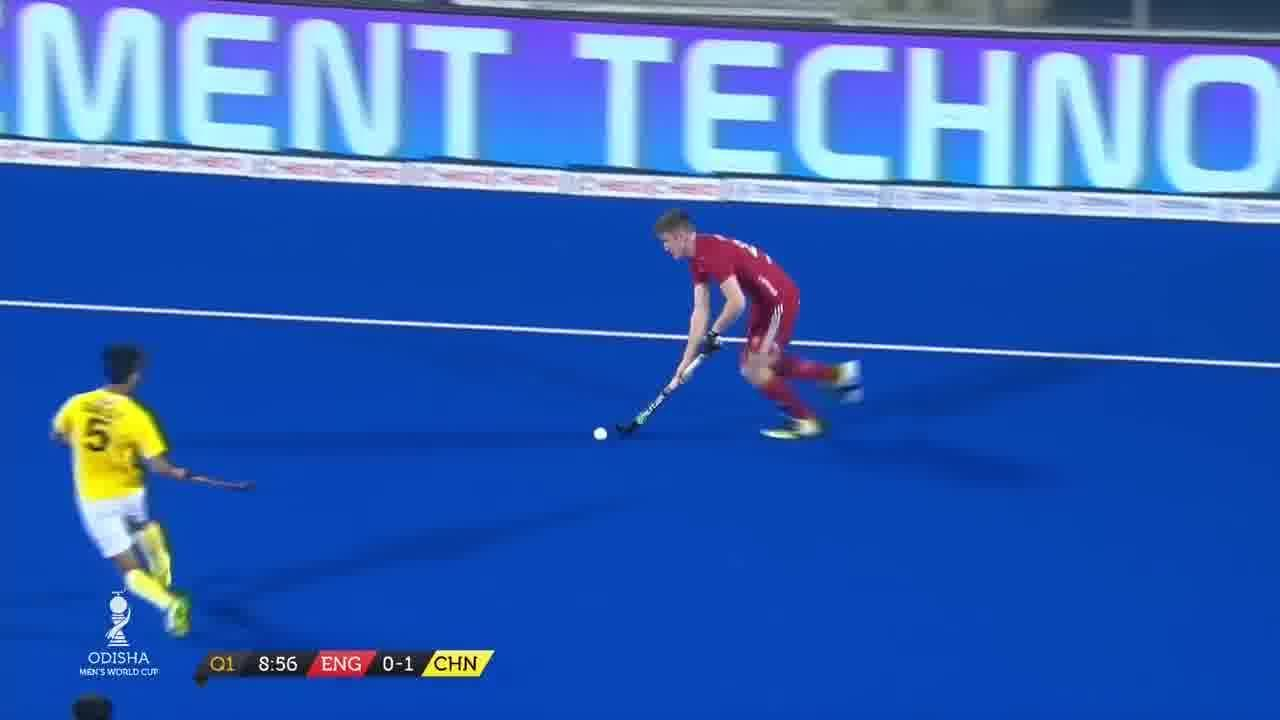ball: (593, 422, 621, 446)
